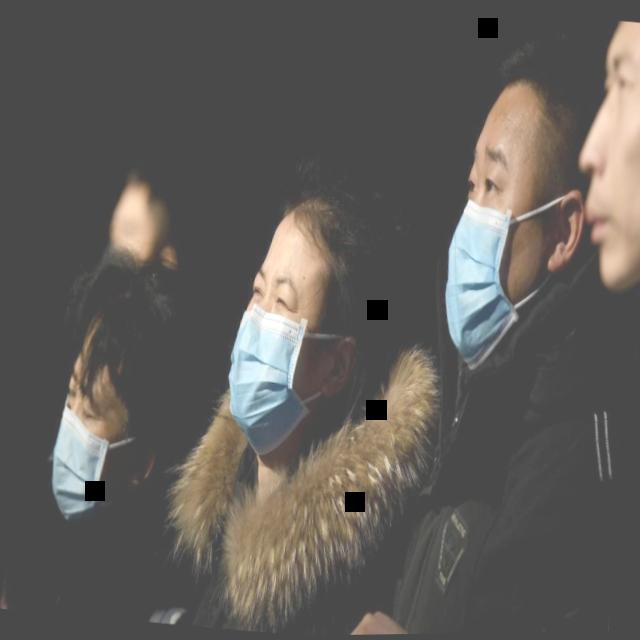Mask: (420, 63, 593, 395), (214, 178, 394, 483), (35, 293, 184, 546)
NO-Mask: (560, 20, 640, 322)
